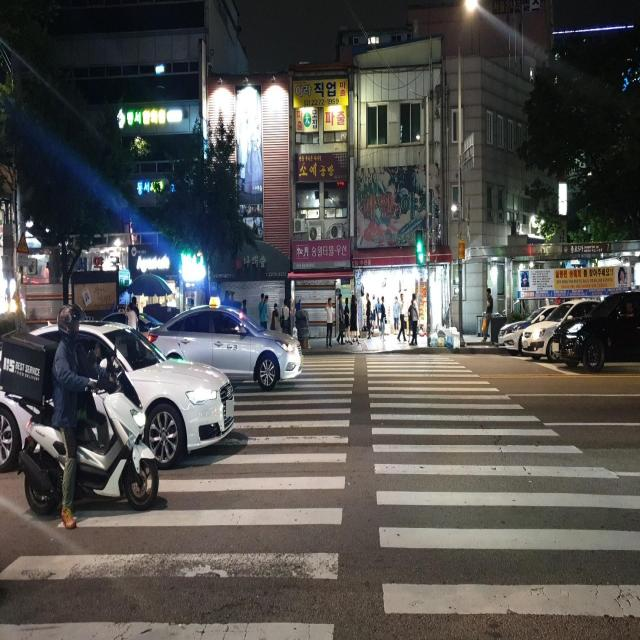초록불: (416, 227, 425, 266)
횡단보도: (0, 352, 640, 640)
